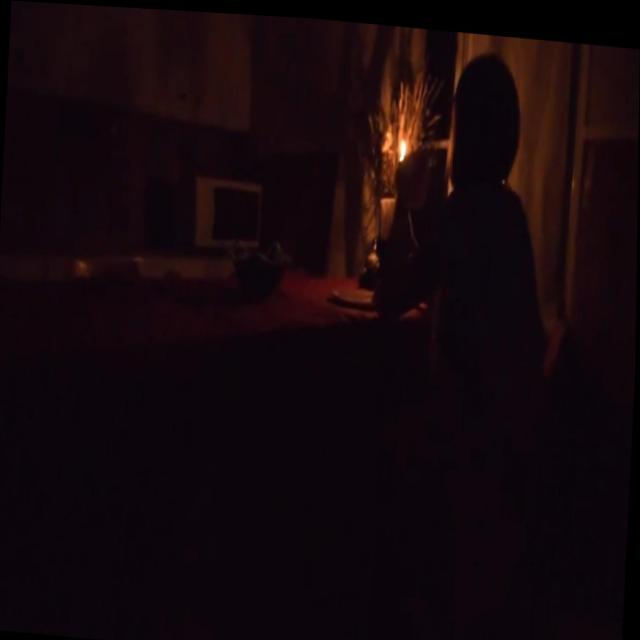fire: (398, 131, 408, 155)
